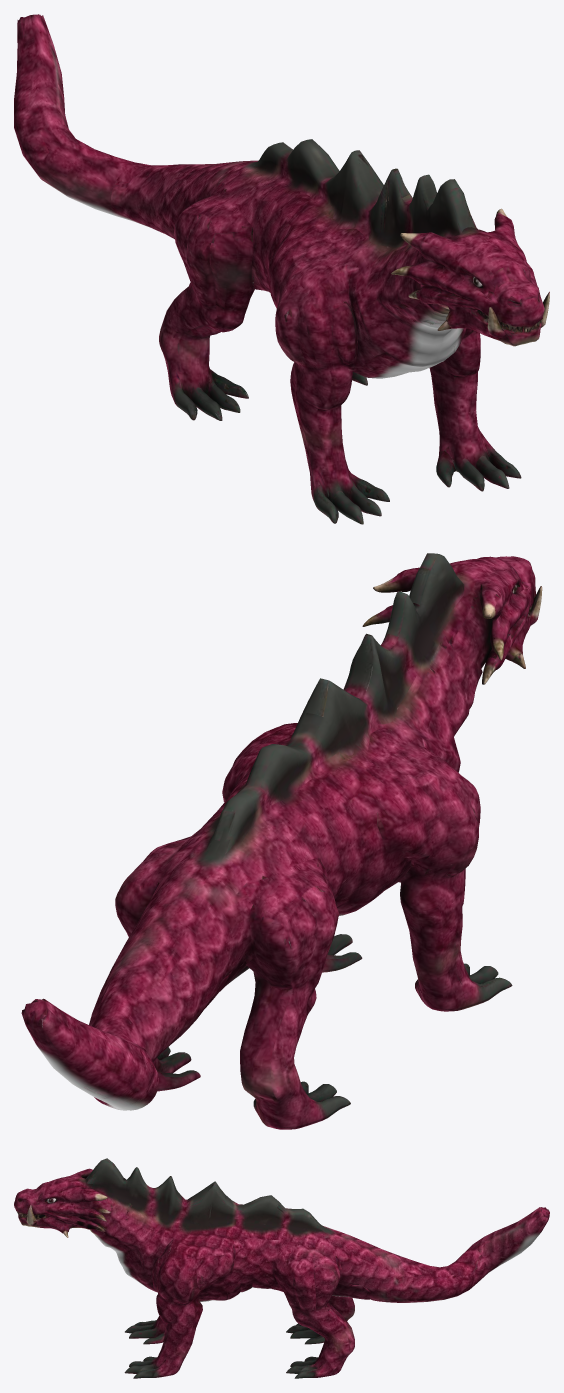
File: MZ4250 - Ambush Drake.glb
3 renders of one model, top to bottom at view 1: azimuth 30°, elevation 25°; view 2: azimuth 150°, elevation 25°; view 3: azimuth 270°, elevation 25°, orthographic. The views are drawn at different scales.
Visible parts, largest first — view 1: MZ4250 Ambush Drake; view 2: MZ4250 Ambush Drake; view 3: MZ4250 Ambush Drake.
Part boxes in pixels (box(x1,y1,x2,y2)): MZ4250 Ambush Drake: box(14, 14, 549, 524); MZ4250 Ambush Drake: box(21, 553, 542, 1129); MZ4250 Ambush Drake: box(14, 1158, 549, 1378).
Size of the model in its own units: 0.5013 by 0.776 by 1.95.
1 material, 1 textured.
